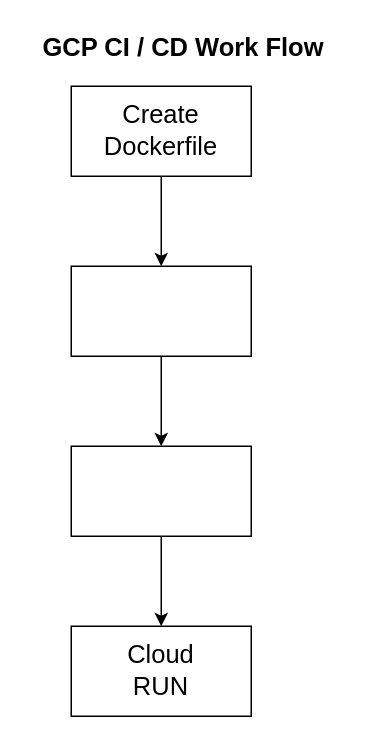
The diagram is 366 pixels wide and 743 high, and some of its shapes have lost their labels. Here are the shapes that lost their labels. From the top down, the centre of each, then its label:
At pixel 160 310: "Cloud Build".
At pixel 160 490: "Registry Container".
